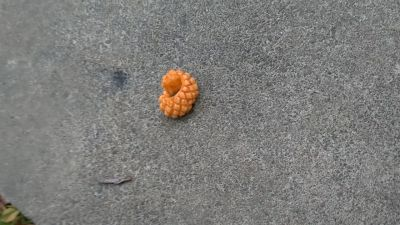eggs: (158, 67, 200, 120)
